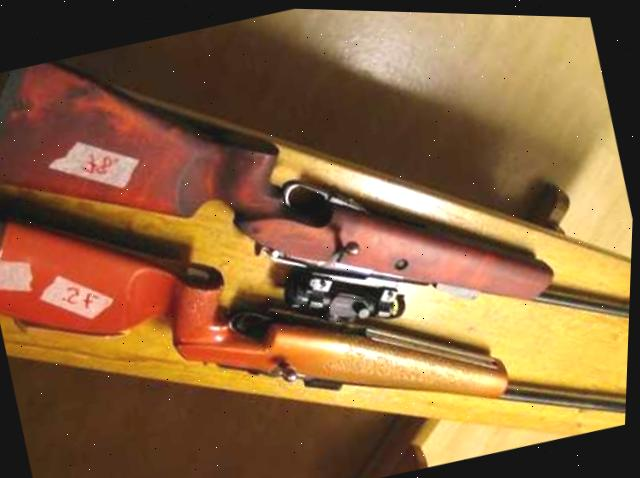rifle: (0, 0, 640, 478), (0, 61, 638, 478)
